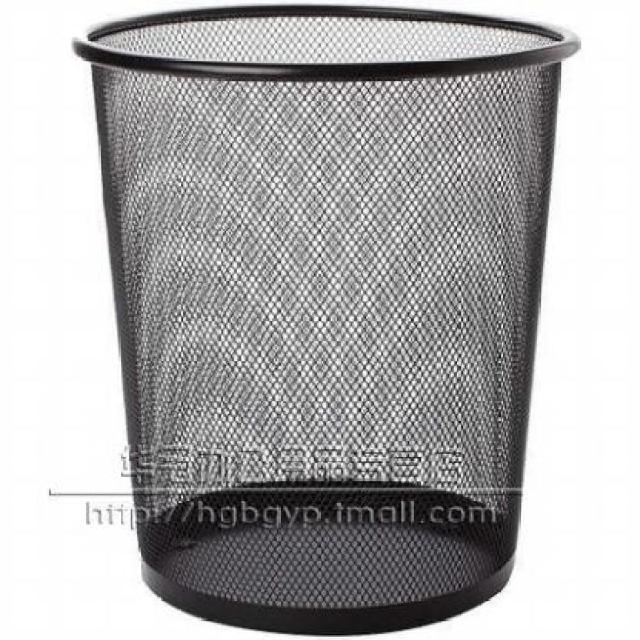dustbin: (68, 2, 585, 639)
